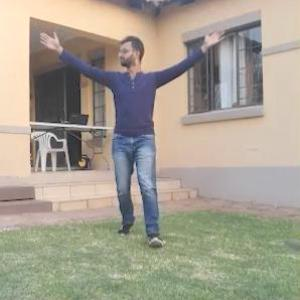takeoff: (41, 23, 226, 226)
